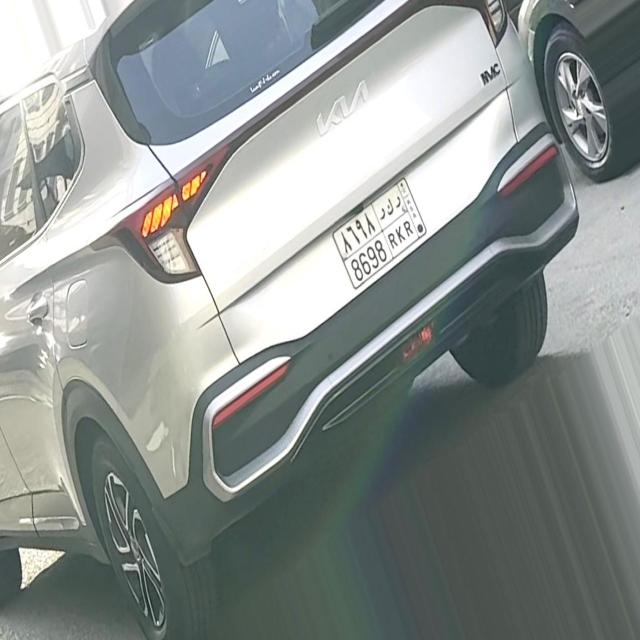Car-plate: (319, 145, 448, 308)
